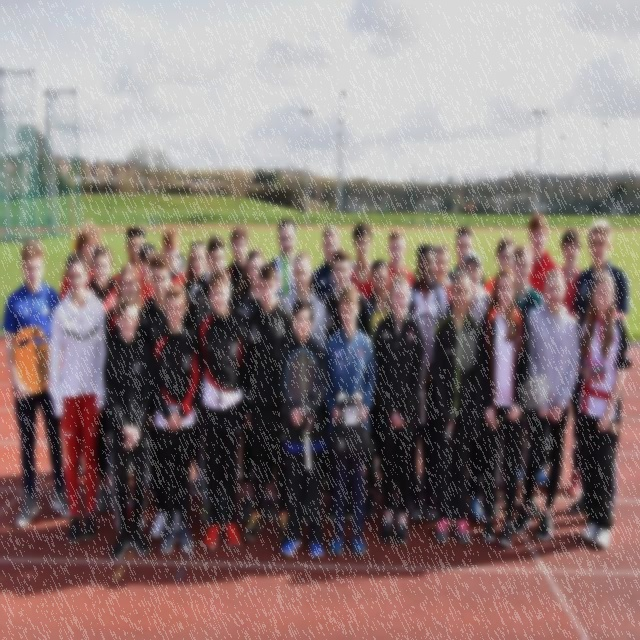pessoa: (1, 238, 75, 527), (566, 218, 630, 516), (510, 270, 580, 542), (48, 251, 108, 546), (237, 262, 298, 544), (576, 270, 633, 552), (368, 271, 426, 546), (188, 234, 241, 531), (321, 284, 377, 558), (430, 270, 485, 546), (150, 282, 205, 556), (478, 265, 530, 549), (195, 268, 246, 550), (102, 298, 152, 563), (278, 298, 327, 560), (446, 251, 493, 522), (233, 250, 278, 524), (138, 252, 181, 537), (406, 243, 448, 522), (59, 220, 102, 482), (511, 243, 547, 520), (84, 245, 118, 516), (559, 226, 584, 498), (320, 248, 370, 352), (281, 249, 328, 353), (102, 262, 150, 352), (309, 224, 354, 303), (146, 226, 190, 301), (360, 258, 397, 344), (528, 214, 562, 304), (346, 222, 380, 304), (266, 217, 298, 302), (222, 224, 252, 314), (182, 240, 210, 330), (447, 226, 485, 286), (484, 235, 518, 302), (386, 228, 418, 294), (112, 225, 146, 283), (430, 241, 455, 308), (135, 243, 158, 308), (450, 197, 478, 216)
